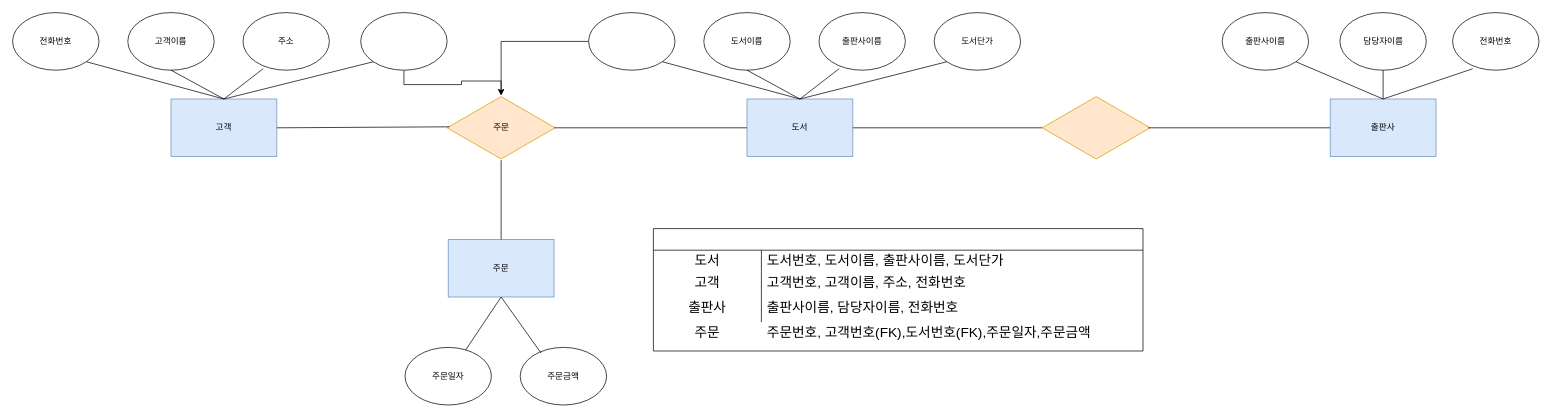
The diagram is 1552 pixels wide and 418 high, and some of its shapes have lost their labels. Each missing label, with the box of its shape:
Table: (653, 228, 1143, 351)
고객번호: (360, 12, 447, 70)
공급: (1041, 95, 1150, 160)
도서번호: (588, 12, 675, 70)
